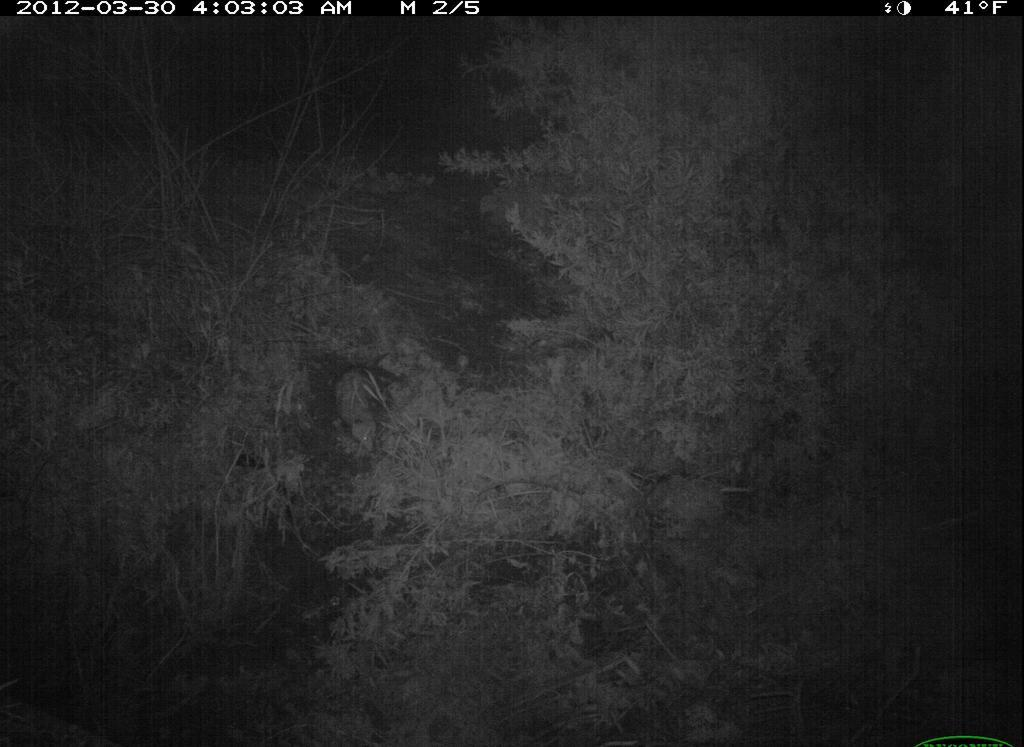opossum: (324, 363, 405, 456)
